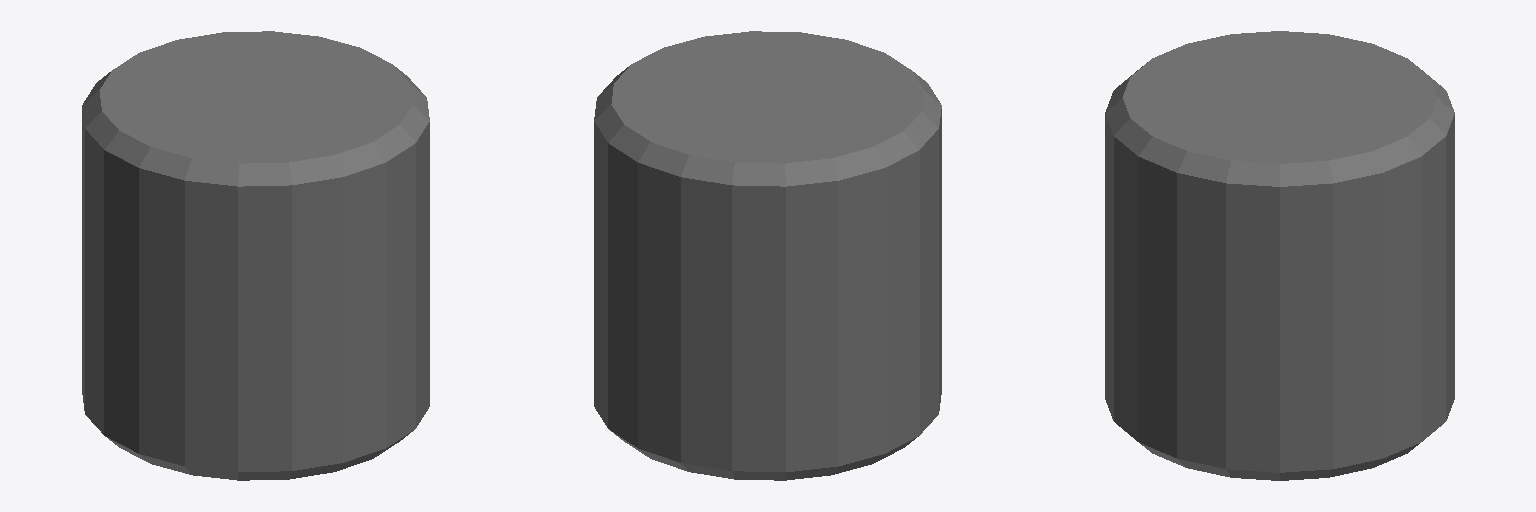
File: Pad_Cylinder.obj
3 views of the same model, side by side, from view 1: azimuth 30°, elevation 25°; view 2: azimuth 150°, elevation 25°; view 3: azimuth 270°, elevation 25° (orthographic).
Parts seen in each view (by area): view 1: default; view 2: default; view 3: default.
Boxes of the visible parts, x1=… form: default: x1=82, y1=31, x2=429, y2=480; default: x1=594, y1=31, x2=941, y2=480; default: x1=1105, y1=31, x2=1454, y2=480.
Bounding box in the file's own units: 1 × 1 × 1.